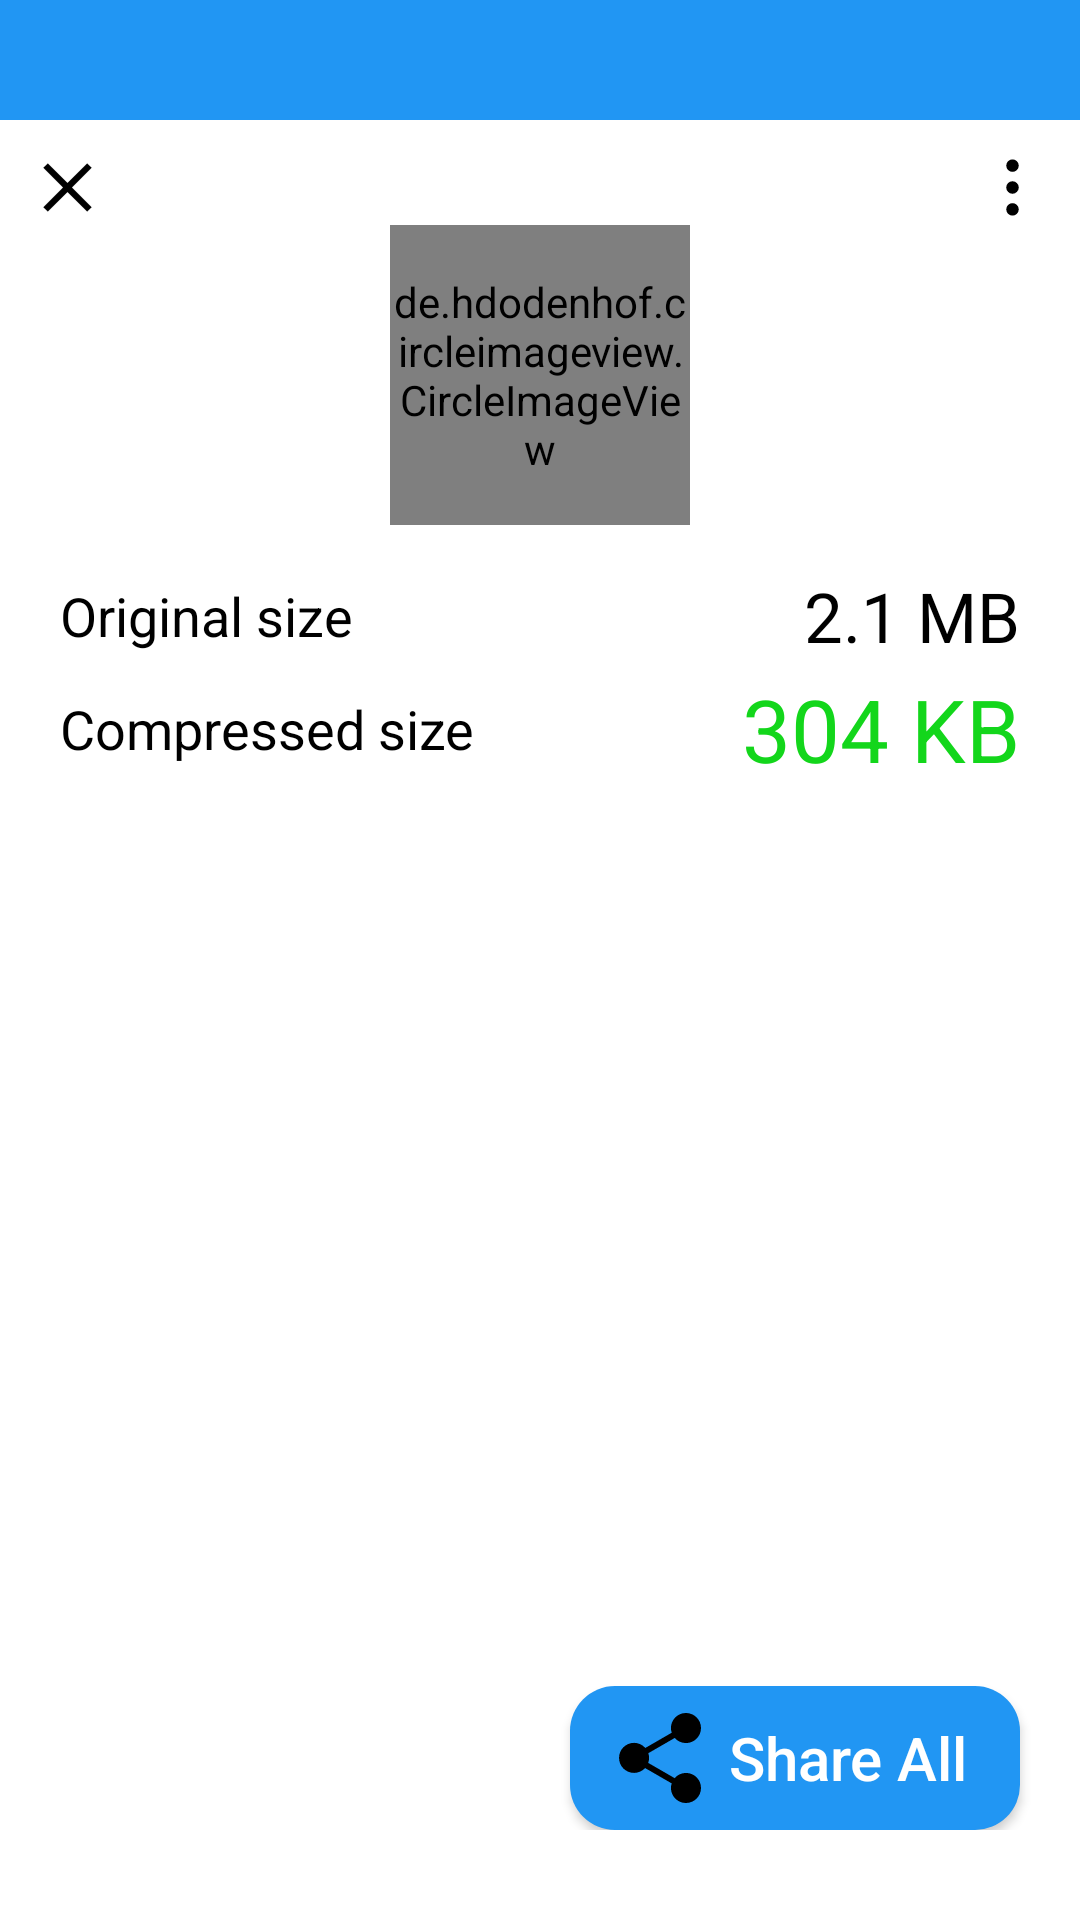

Screen size 1080*1920. Icon name, then its center in pixels as (x,y):
cancel: (67,187)
vertical: (1012,187)
